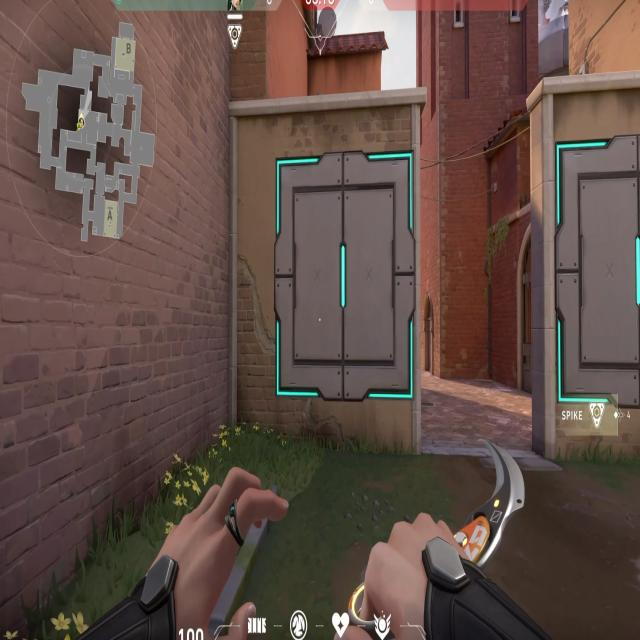Mid_Wall: (273, 142, 419, 413), (555, 135, 640, 421)
